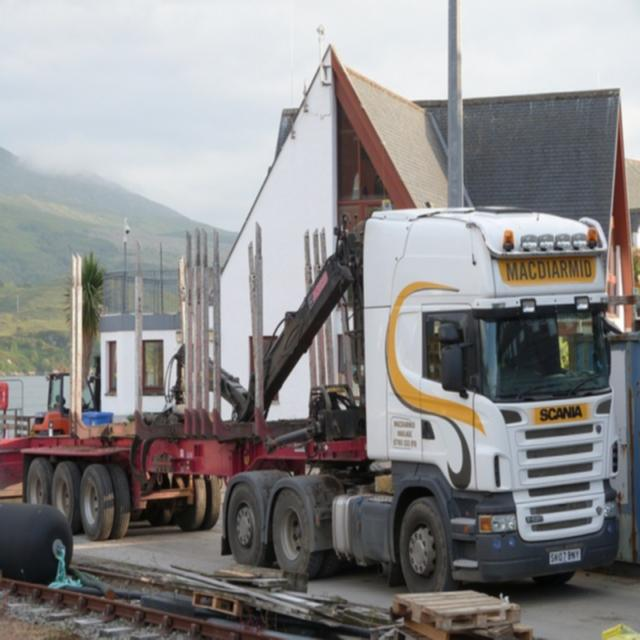truck: (2, 203, 624, 586)
